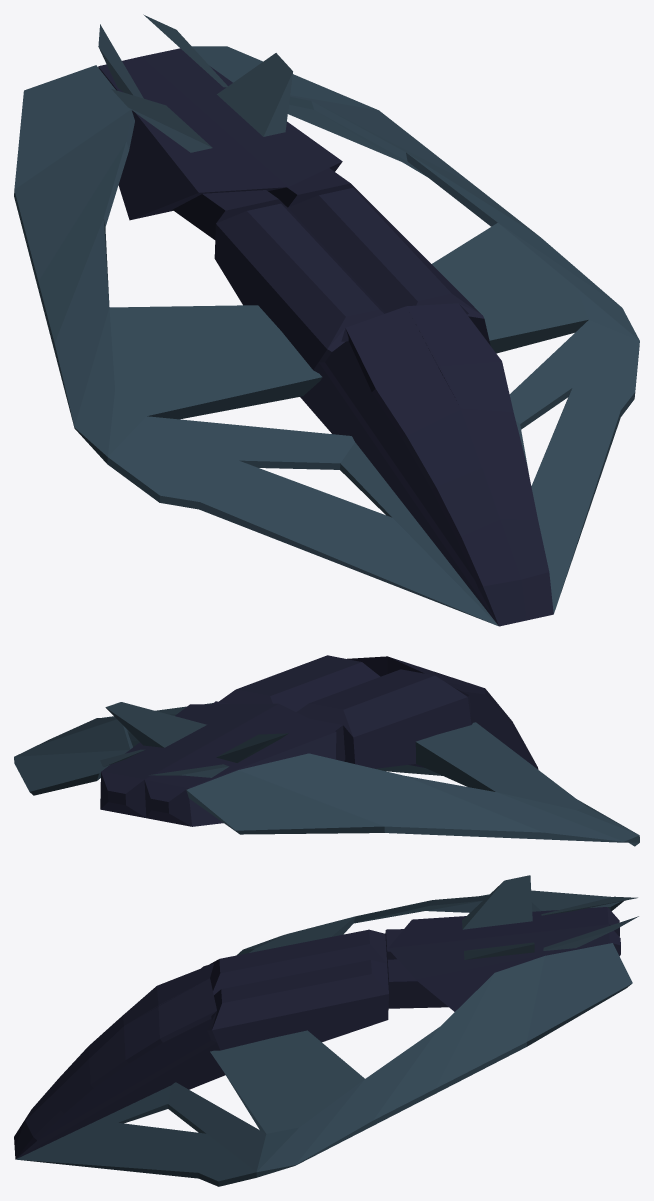
The model's file is AvengersShip.fbx.
The picture shows the model from 3 angles, top to bottom: view 1: azimuth 30°, elevation 25°; view 2: azimuth 150°, elevation 25°; view 3: azimuth 270°, elevation 25°; orthographic projection. The views are drawn at different scales.
Parts seen in each view (by area): view 1: Cube; view 2: Cube; view 3: Cube.
Part boxes in pixels (x1,y1,x2,y2): Cube: (14,14,639,626); Cube: (14,655,639,846); Cube: (14,875,638,1186).
Size of the model in its own units: 663 by 353 by 829.
